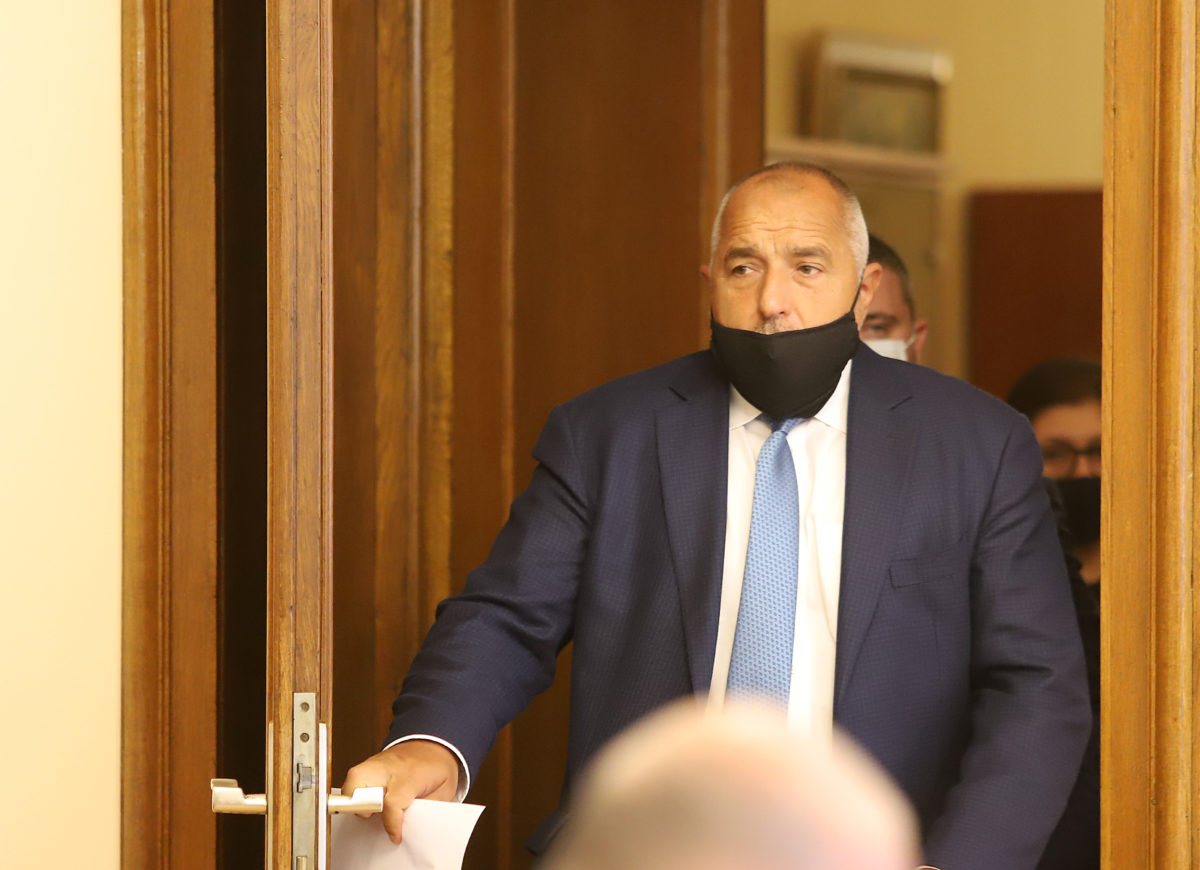WrongMask: (706, 287, 879, 422)
